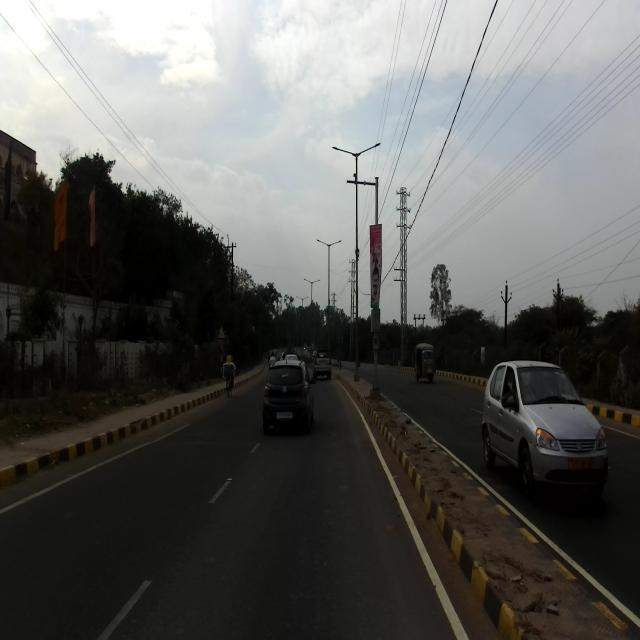car ahead at: (480, 354, 610, 497), (260, 354, 312, 440)
